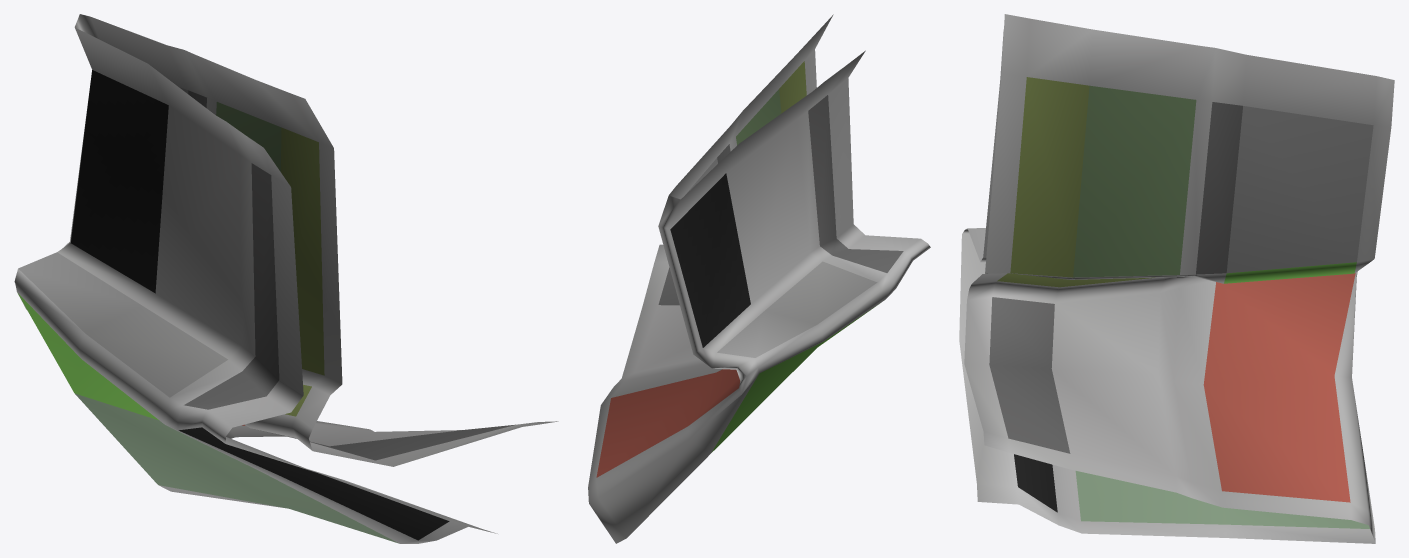
Rendered from PaperCrumble_Type8.fbx.
The picture shows the model from 3 angles, left to right: view 1: azimuth 30°, elevation 25°; view 2: azimuth 150°, elevation 25°; view 3: azimuth 270°, elevation 25°; orthographic projection. The views are drawn at different scales.
Parts seen in each view (by area): view 1: PaperCrumble_Type8; view 2: PaperCrumble_Type8; view 3: PaperCrumble_Type8.
Boxes of the visible parts, x1,y1,x2,y2 form: PaperCrumble_Type8: (14,14,558,543); PaperCrumble_Type8: (588,14,930,543); PaperCrumble_Type8: (959,14,1394,543).
Bounding box in the file's own units: 13.24 × 20.6 × 16.36.
